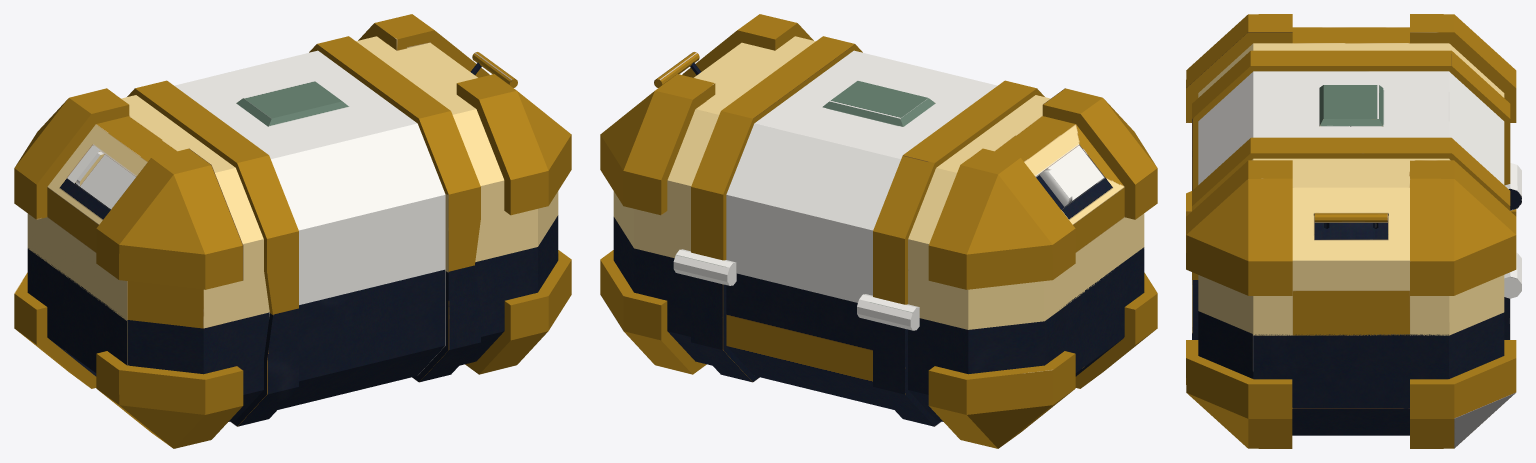
Rendered from ChestTexturized.fbx.
3 views of the same model, side by side, from view 1: azimuth 30°, elevation 25°; view 2: azimuth 150°, elevation 25°; view 3: azimuth 270°, elevation 25° (orthographic).
Parts seen in each view (by area): view 1: polySurface10, polySurface9, polySurface16; view 2: polySurface10, polySurface9, polySurface16, polySurface14, polySurface15; view 3: polySurface10, polySurface9, polySurface13, polySurface14, polySurface15.
Boxes of the visible parts, <box> form: polySurface10: <box>14,14,571,328</box>; polySurface9: <box>14,215,571,448</box>; polySurface16: <box>76,151,135,209</box>; polySurface10: <box>600,14,1157,329</box>; polySurface9: <box>600,217,1157,448</box>; polySurface16: <box>1039,145,1103,206</box>; polySurface14: <box>673,249,736,285</box>; polySurface15: <box>857,294,919,330</box>; polySurface10: <box>1186,14,1516,335</box>; polySurface9: <box>1186,191,1516,448</box>; polySurface13: <box>1314,213,1387,222</box>; polySurface14: <box>1504,252,1521,298</box>; polySurface15: <box>1504,163,1521,210</box>.
Bounding box in the file's own units: 4.2 × 2.44 × 2.75.
1 material, 1 textured.
